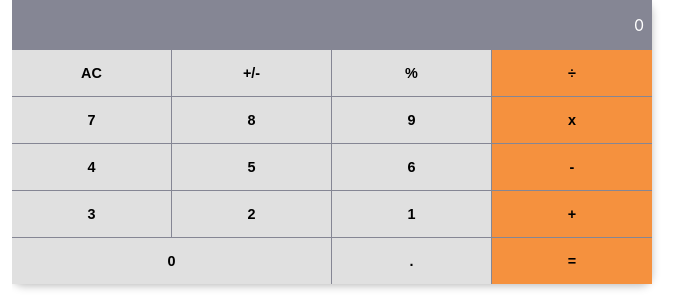
Test: Testing Calculator component with snapshot › test subtruction logic inside the Calculator component
This screenshot has width=673, height=307.
Click the button "1" at (412, 214), box [332, 191, 492, 238]
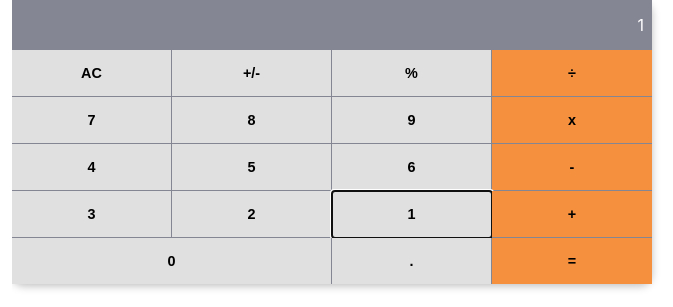
Click the button "1" at (412, 214), box [332, 191, 492, 238]
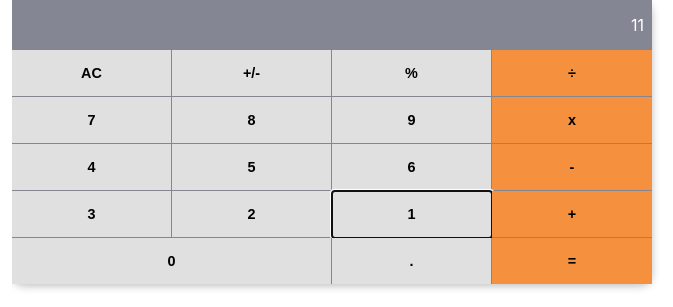
Click the button "-" at (572, 168), box [492, 144, 652, 191]
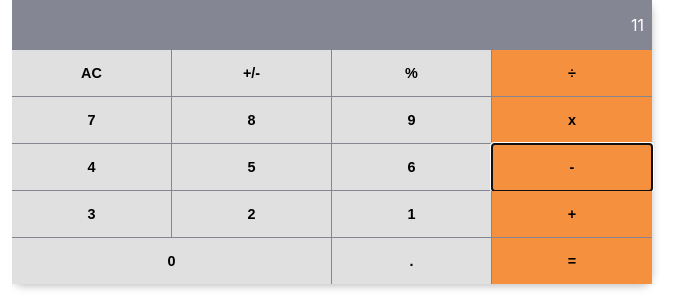
Click the button "6" at (412, 168), box [332, 144, 492, 191]
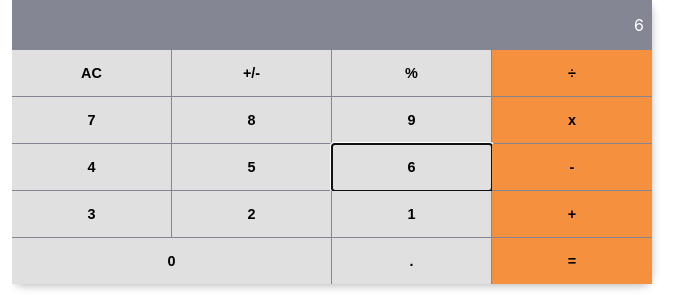
Click the button "=" at (572, 261), box [492, 238, 652, 284]
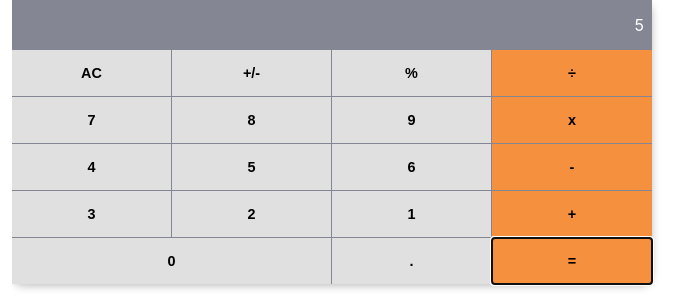
Expected: the text with test id "total_value" reads "5", [634, 15, 644, 35]
